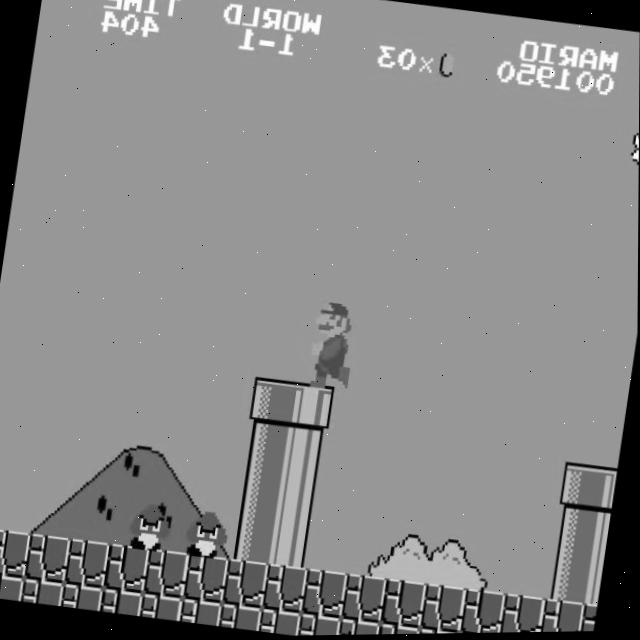0- big_mario: (308, 294, 364, 393)
14- pipe: (552, 508, 600, 560), (275, 473, 323, 525), (546, 554, 593, 606), (269, 518, 316, 570), (229, 513, 276, 565), (242, 423, 290, 473), (236, 468, 283, 519), (282, 428, 329, 478), (585, 559, 605, 607), (592, 514, 611, 562)
15- pipe_head: (288, 382, 336, 434), (249, 377, 296, 429), (559, 463, 606, 514), (599, 469, 618, 515)
17- undestructible_block: (420, 584, 468, 635), (341, 574, 389, 625), (222, 559, 270, 610), (381, 579, 428, 631), (183, 553, 230, 605), (144, 548, 191, 600), (104, 543, 151, 595), (64, 538, 111, 590), (25, 533, 72, 585), (302, 569, 349, 620), (262, 564, 309, 615), (460, 589, 508, 635), (499, 595, 547, 634), (539, 599, 586, 634), (0, 528, 32, 579), (21, 578, 66, 607), (258, 608, 302, 637), (61, 583, 105, 612), (100, 589, 145, 617), (219, 604, 263, 632), (180, 599, 224, 627), (140, 594, 184, 622), (298, 614, 342, 636), (337, 619, 381, 636), (0, 573, 26, 601), (578, 605, 597, 633), (377, 624, 421, 636)
8- goomba: (128, 499, 178, 555), (184, 507, 234, 562)
